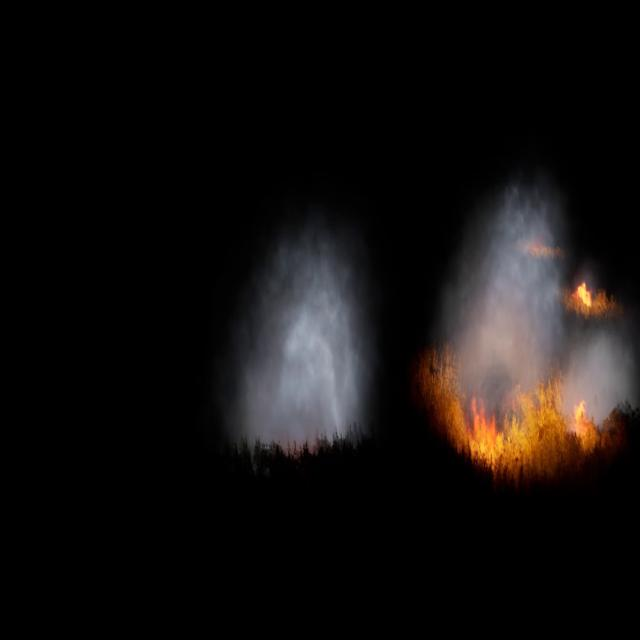fire: (429, 360, 605, 481), (577, 280, 594, 313)
smoke: (436, 181, 640, 435), (220, 195, 382, 452)
